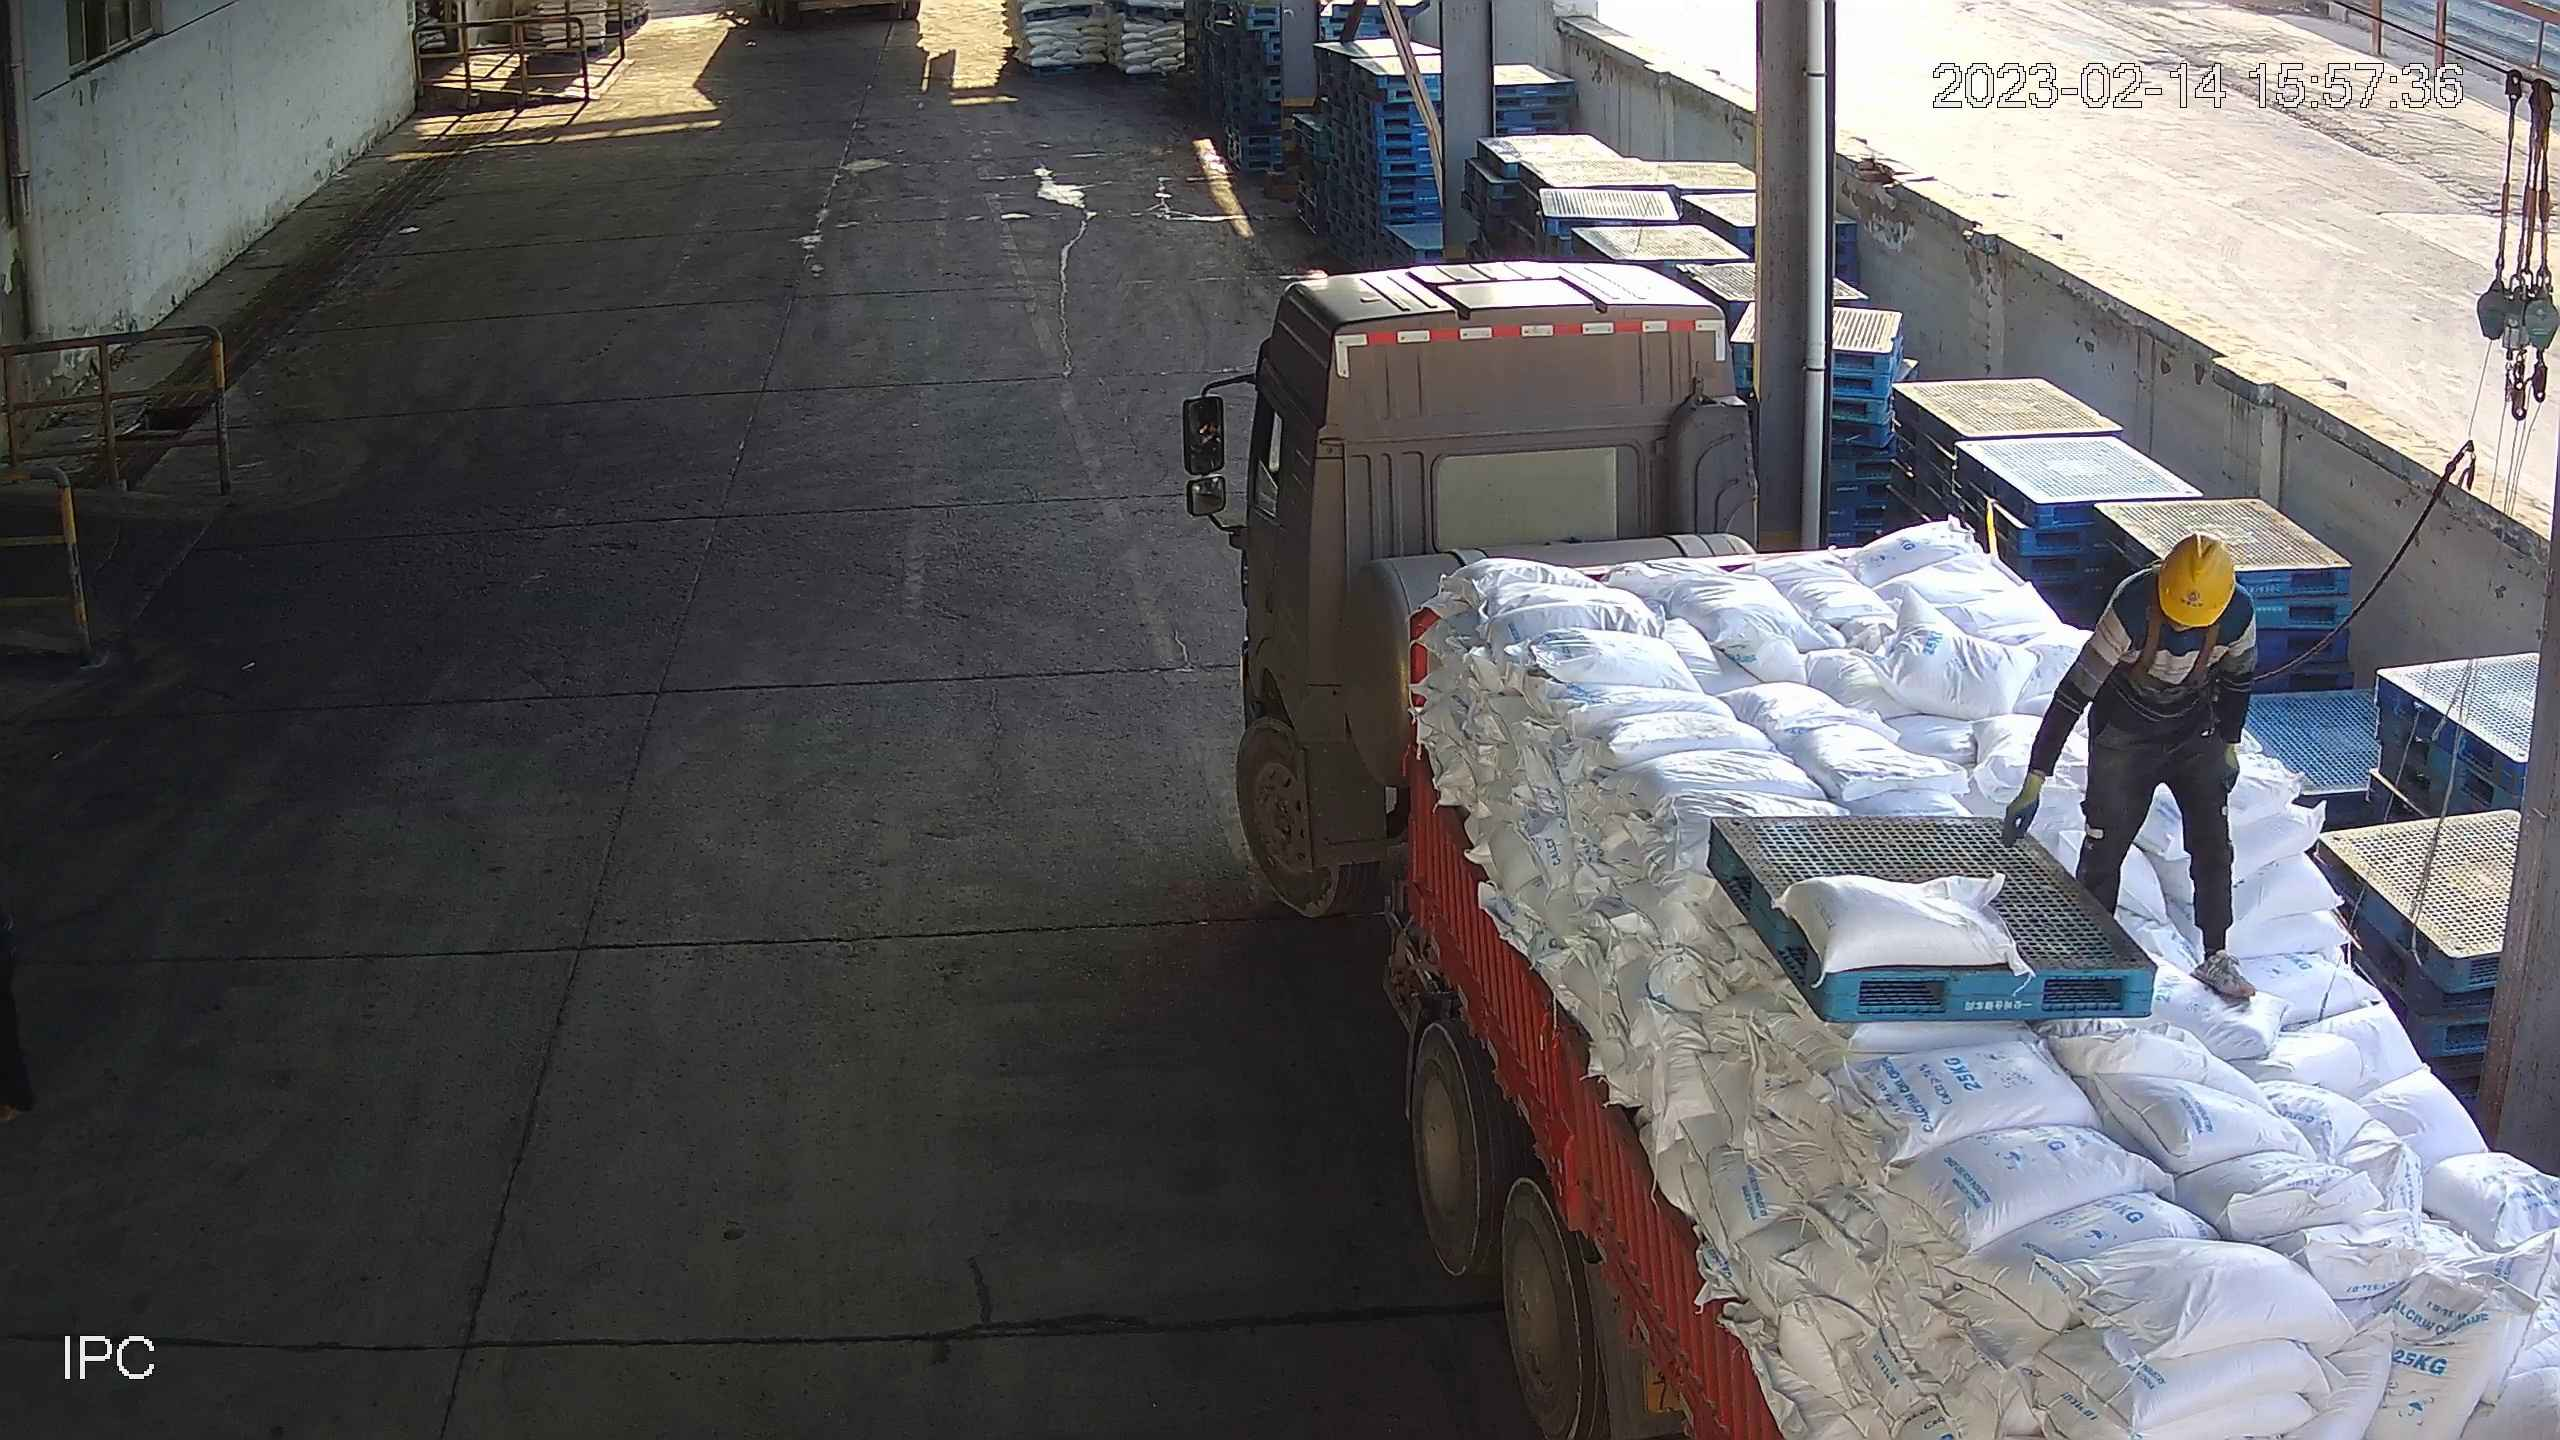belt: (2128, 607, 2227, 703)
head: (2108, 533, 2259, 646)
helmet: (2157, 533, 2238, 627)
people: (2001, 532, 2259, 1003)
truck: (1229, 257, 2560, 1440)
